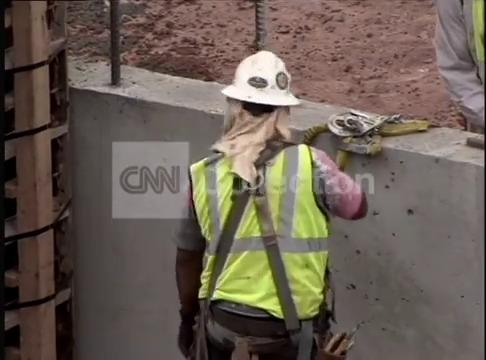Gloves: (177, 313, 197, 358)
Helmet: (213, 53, 298, 110)
Person: (169, 49, 346, 358)
Safety Vest: (200, 153, 319, 310)
